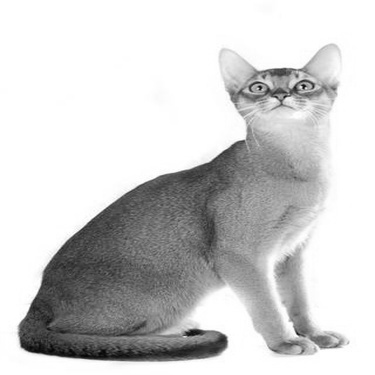cat: (24, 38, 351, 355)
